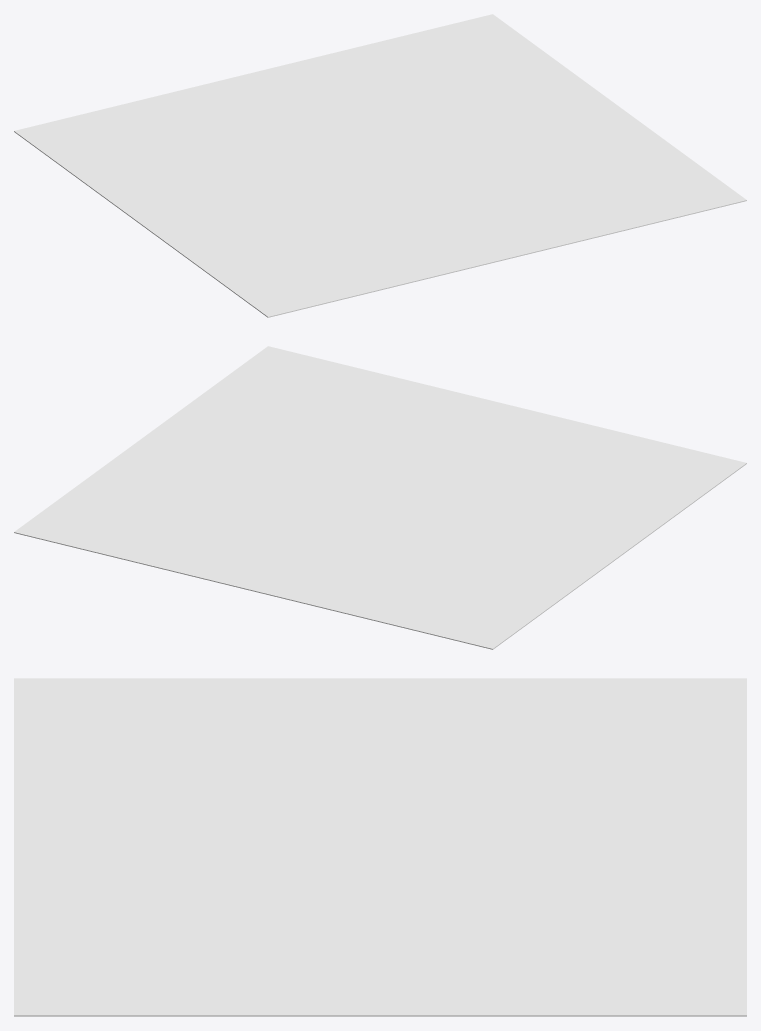
The model's file is Level 115 Unroll nailpolish.fbx.
3 views of the same model, one above another, from view 1: azimuth 30°, elevation 25°; view 2: azimuth 150°, elevation 25°; view 3: azimuth 270°, elevation 25° (orthographic). The views are drawn at different scales.
Parts seen in each view (by area): view 1: Blend; view 2: Blend; view 3: Blend.
Boxes of the visible parts, x1=… form: Blend: x1=14, y1=14, x2=746, y2=317; Blend: x1=14, y1=346, x2=746, y2=649; Blend: x1=14, y1=678, x2=746, y2=1016.
Size of what is drawn, in the model's own units: 551 by 1 by 506.
